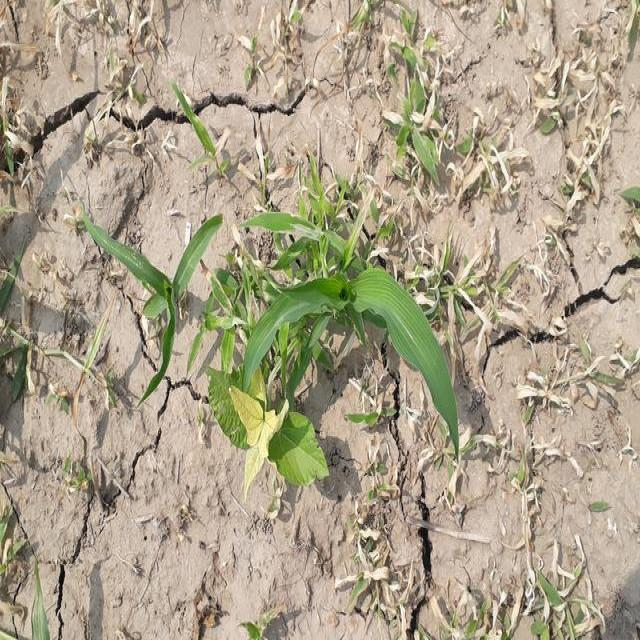weed: (92, 201, 475, 490), (540, 58, 616, 180), (233, 0, 312, 85), (530, 329, 608, 409), (458, 116, 519, 206), (386, 73, 444, 164), (336, 506, 388, 606), (476, 228, 516, 354), (172, 80, 225, 164), (527, 573, 593, 640), (372, 15, 439, 74), (13, 556, 52, 640), (0, 331, 31, 418), (241, 607, 284, 640), (582, 498, 610, 532), (1, 505, 18, 552)
